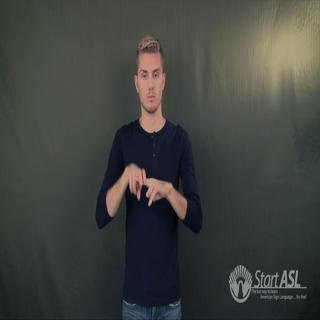chair: (120, 162, 169, 208)
